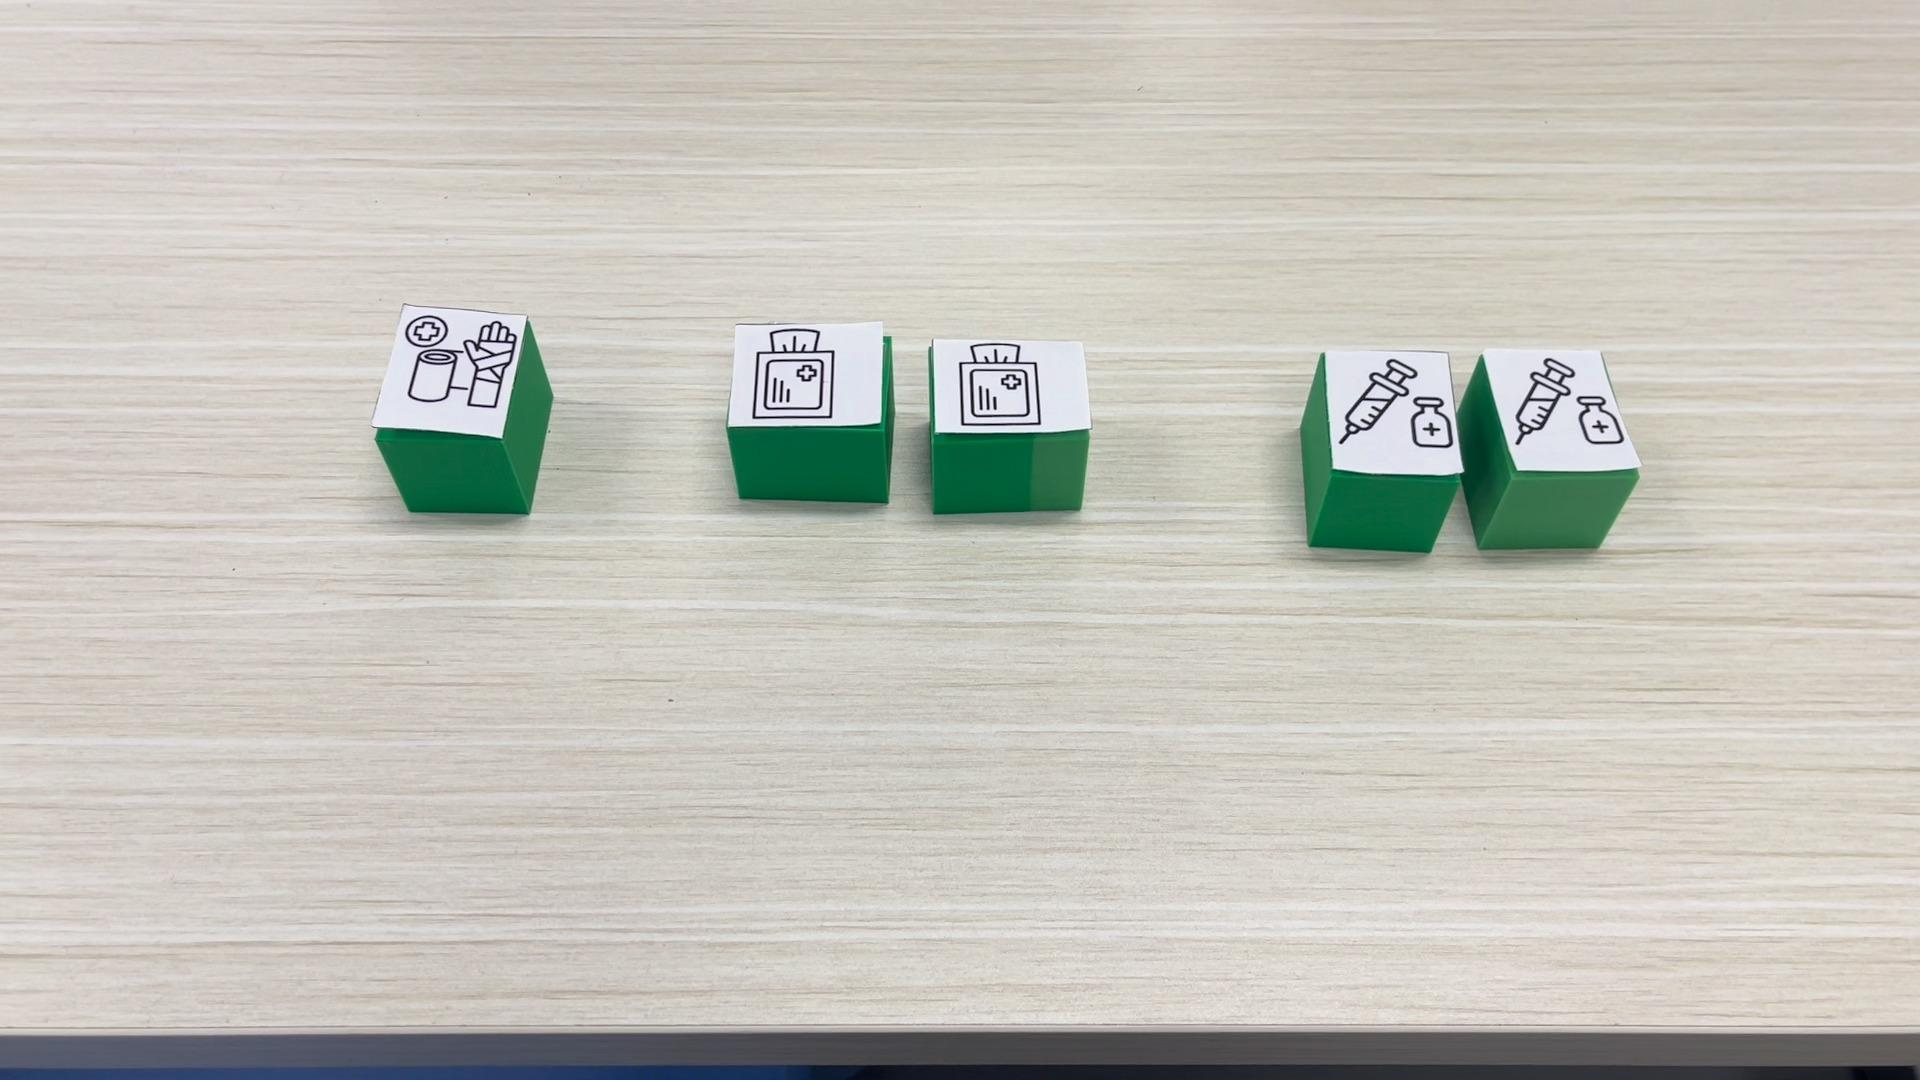Bandages: (373, 303, 553, 516)
Gauze: (725, 320, 891, 502), (926, 334, 1093, 513)
antiseptic cream: (1457, 344, 1642, 553), (1299, 345, 1469, 554)
